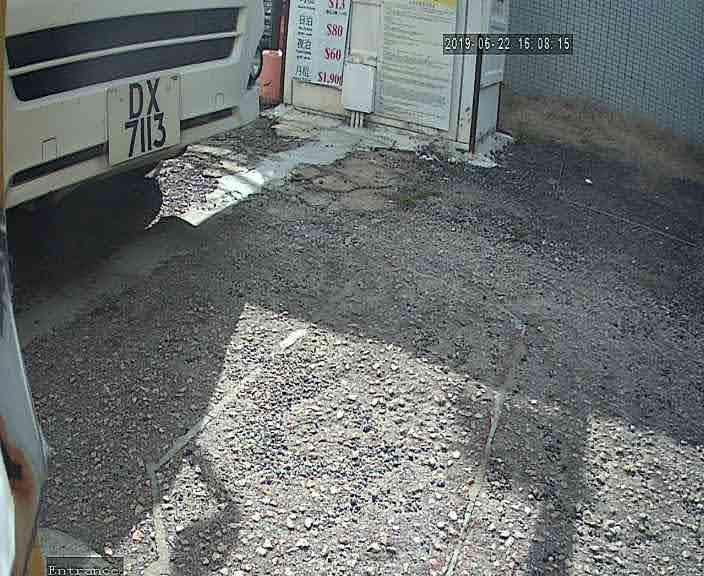bottom_left_lp: (106, 160, 116, 170)
bottom_right_lp: (174, 139, 184, 149)
top_left_lp: (100, 83, 116, 98)
top_right_lp: (172, 67, 183, 83)
